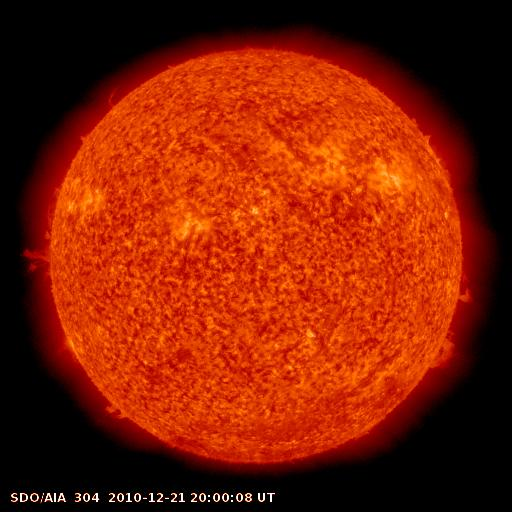prominence: (11, 179, 74, 280), (421, 328, 469, 378), (84, 391, 135, 432), (453, 266, 491, 312), (93, 79, 131, 119)
